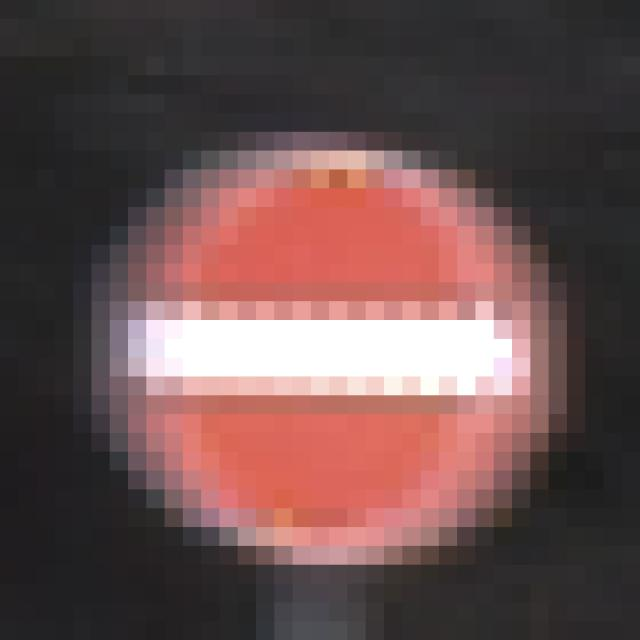No Entry: (93, 114, 550, 547)
